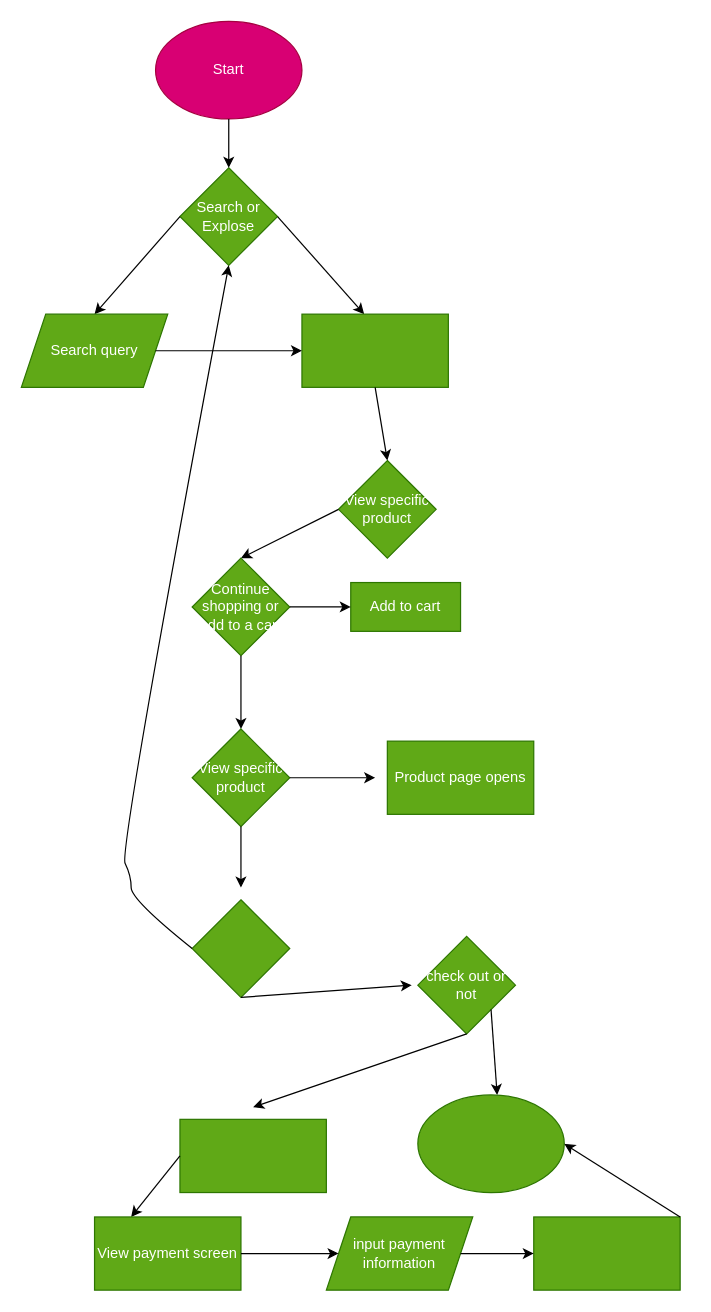
The diagram is 711 pixels wide and 1312 high, and some of its shapes have lost their labels. Each missing label, with the centre of its shape:
Continue shopping: point 240,948
leave website: point 490,1143
Look for products: point 374,350
order confimation and email: point 606,1253
View Card Screen: point 252,1155
